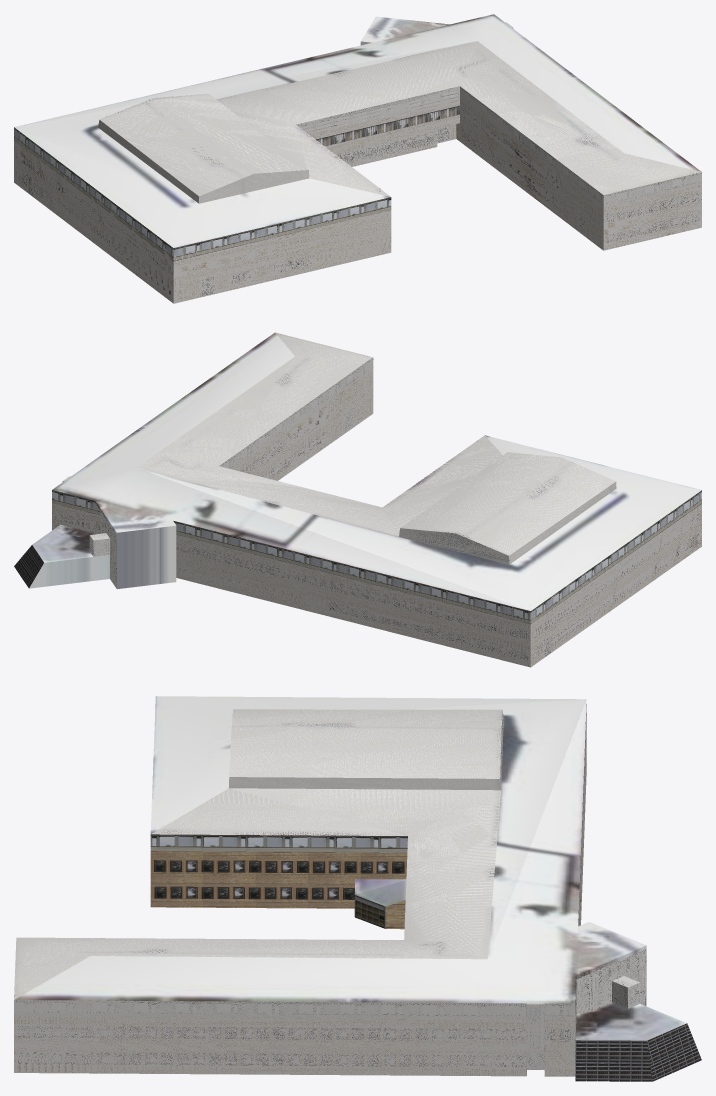
Rendered from forvaltningshuset.dae.
The picture shows the model from 3 angles, top to bottom: view 1: azimuth 30°, elevation 25°; view 2: azimuth 150°, elevation 25°; view 3: azimuth 270°, elevation 25°; orthographic projection. The views are drawn at different scales.
Visible parts, largest first — view 1: SketchUp (×17); view 2: SketchUp (×16); view 3: SketchUp (×18).
Boxes of the visible parts, x1,y1,x2,y2 form: SketchUp (×17): [14, 14, 701, 303]; SketchUp (×16): [14, 332, 701, 667]; SketchUp (×18): [14, 696, 701, 1081].
Bounding box in the file's own units: 2710 × 2521 × 437.
Materials: 17 (16 with a texture image).
